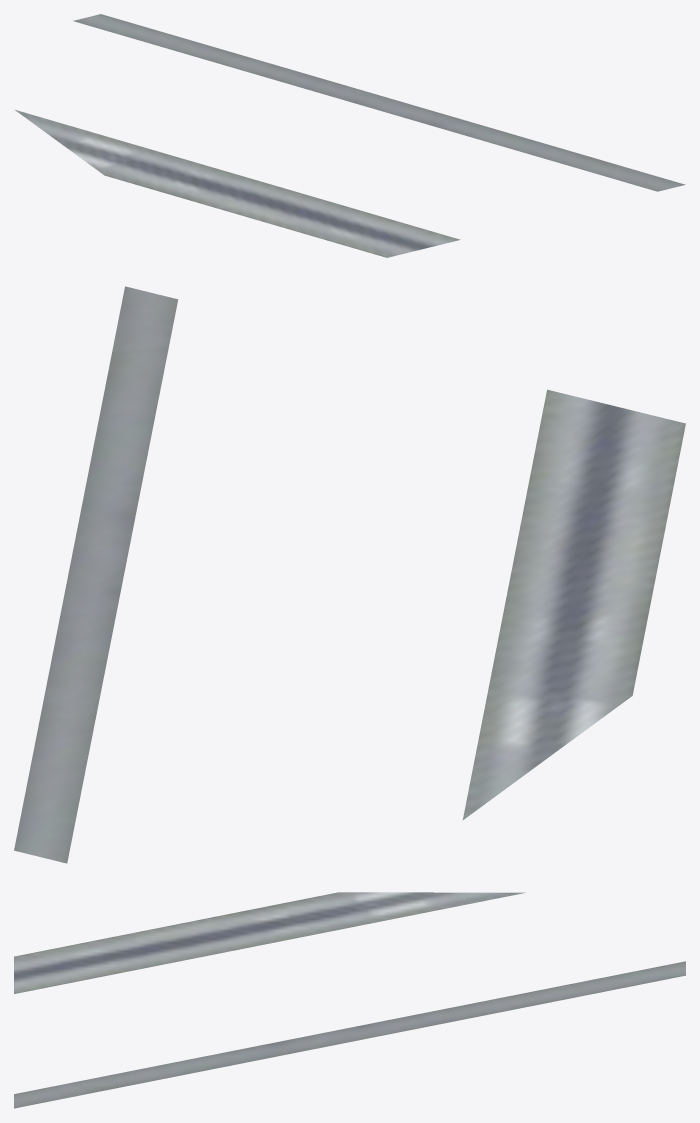
The model's file is LFSB_-2_2.glb.
The picture shows the model from 3 angles, top to bottom: view 1: azimuth 30°, elevation 25°; view 2: azimuth 150°, elevation 25°; view 3: azimuth 270°, elevation 25°; orthographic projection. The views are drawn at different scales.
Visible parts, largest first — view 1: pavement_LFSB_pavement_5211_2547; view 2: pavement_LFSB_pavement_5211_2547; view 3: pavement_LFSB_pavement_5211_2547.
Boxes of the visible parts, left/top/right/bottom form: pavement_LFSB_pavement_5211_2547: left=15, top=14, right=685, bottom=257; pavement_LFSB_pavement_5211_2547: left=14, top=286, right=685, bottom=863; pavement_LFSB_pavement_5211_2547: left=14, top=892, right=685, bottom=1108.
Bounding box in the file's own units: 382 × 0.7481 × 500.
1 material, 1 textured.
